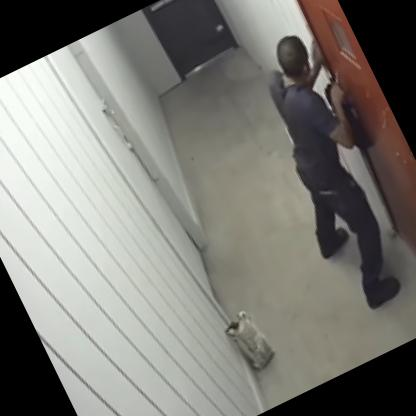Human Body: (221, 5, 415, 328)
